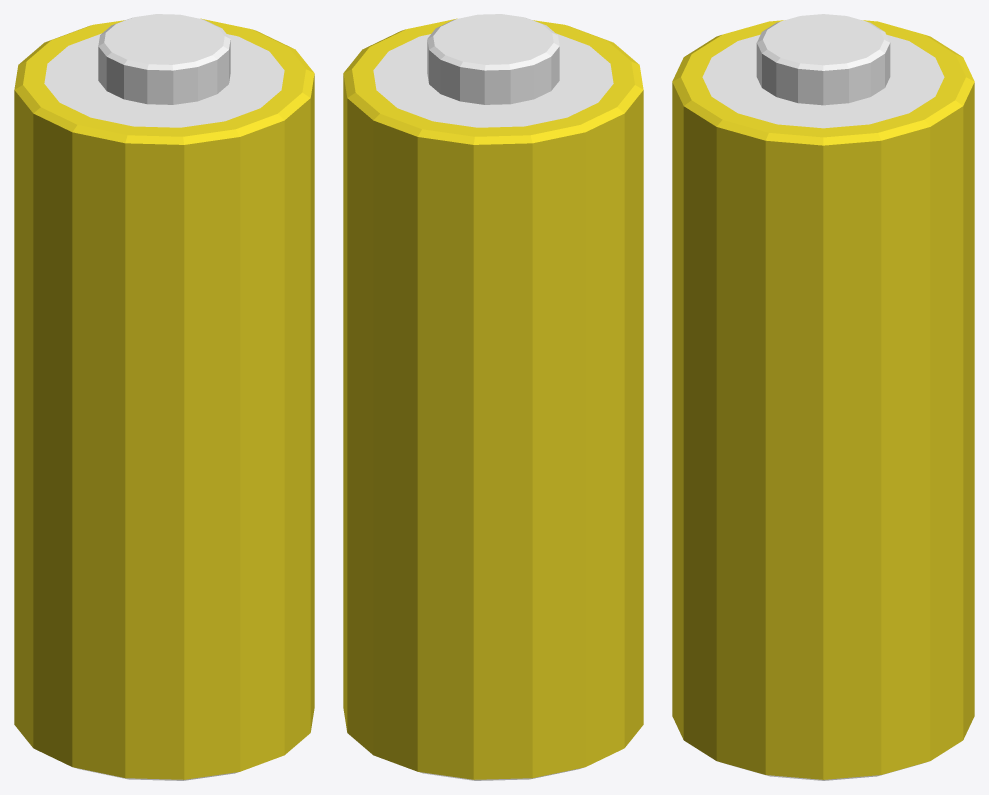
Rendered from Battery.fbx.
The picture shows the model from 3 angles, left to right: view 1: azimuth 30°, elevation 25°; view 2: azimuth 150°, elevation 25°; view 3: azimuth 270°, elevation 25°; orthographic projection.
Parts seen in each view (by area): view 1: Cylinder.001; view 2: Cylinder.001; view 3: Cylinder.001.
Part boxes in pixels (x1,y1,x2,y2): Cylinder.001: (14,14,314,780); Cylinder.001: (343,14,643,780); Cylinder.001: (672,14,974,780).
Bounding box in the file's own units: 50 × 124 × 50.
